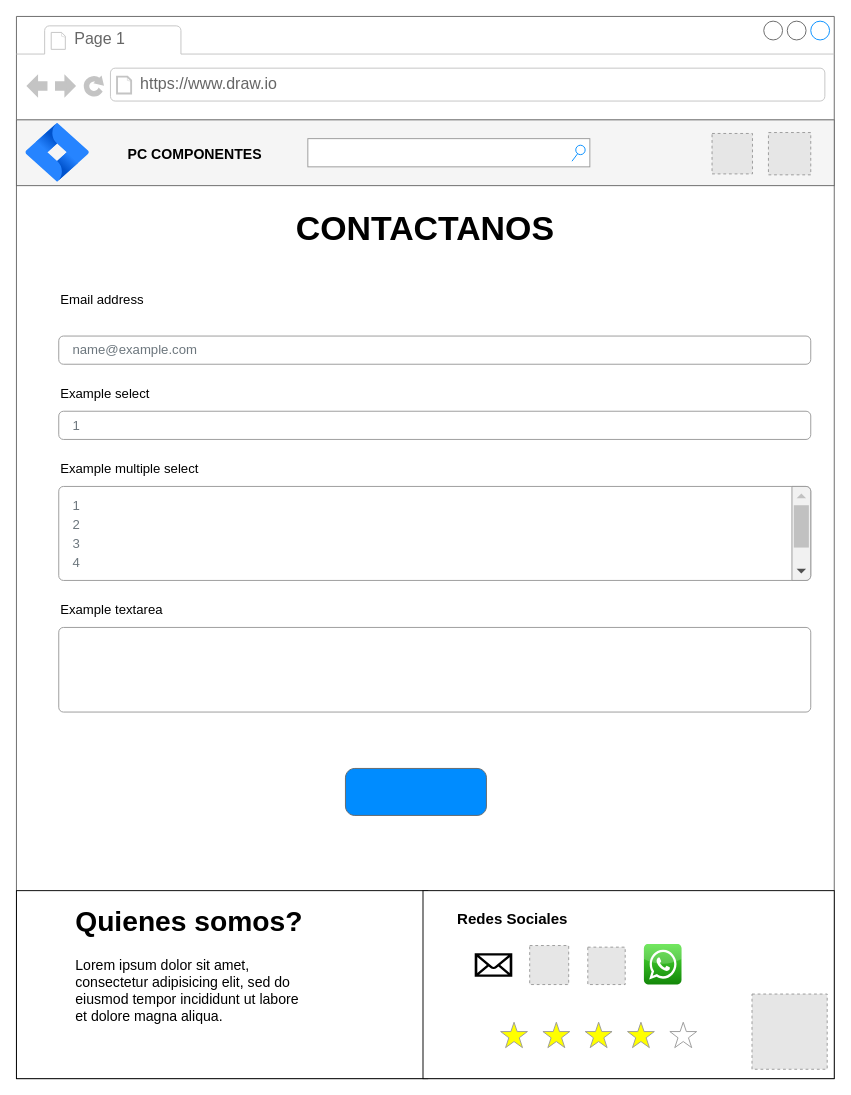
Image size: 851x1095. Some labels were removed from this diagram. Grey dashed boxes stand in for pictures. Here are the shapes that lost their labels. From the top down, the centre of each, then its label:
point 448,152: Search
point 415,791: Enviar
